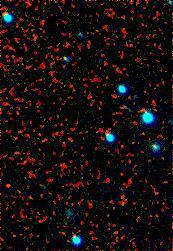star: (0, 171, 24, 201)
